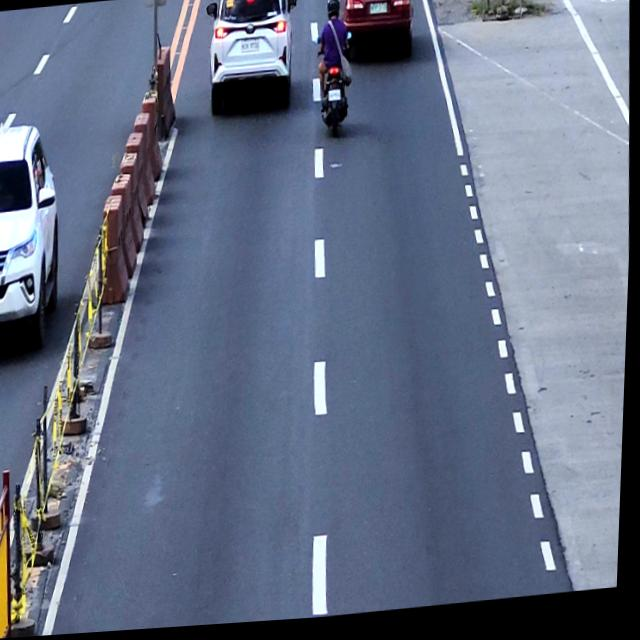Car: (0, 108, 68, 352), (202, 0, 301, 118), (334, 0, 417, 68)
License-Plate: (240, 42, 261, 58), (369, 8, 387, 20), (328, 93, 342, 106)
Motorcycle: (310, 37, 355, 143)
